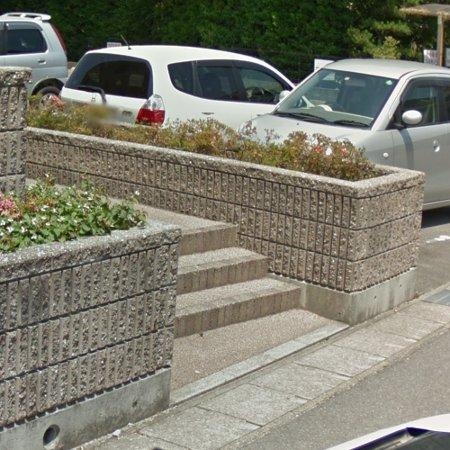stairs: (143, 206, 301, 338)
